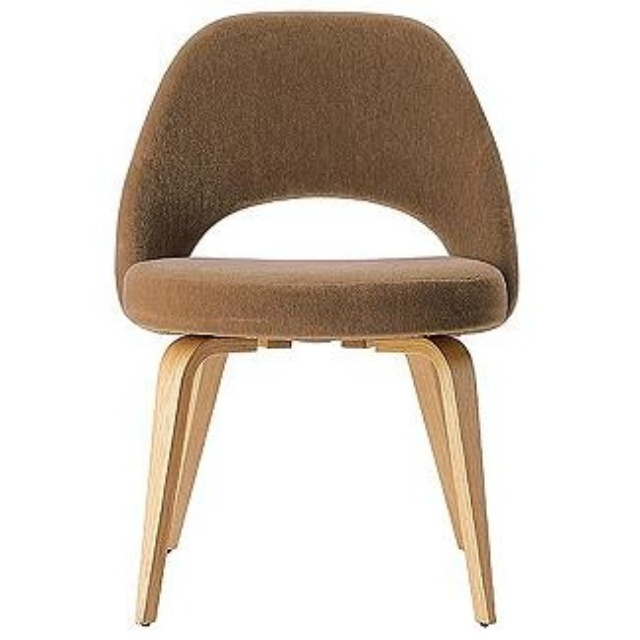obstacle: (116, 12, 516, 622)
